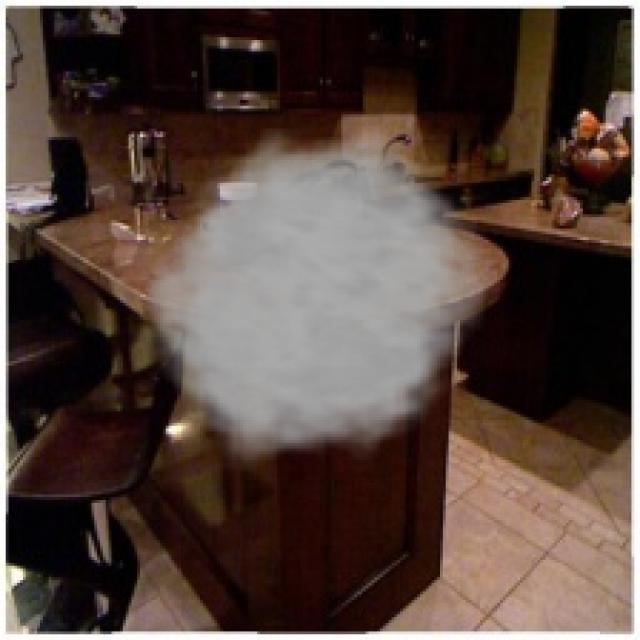Smoke: (131, 128, 506, 474)
